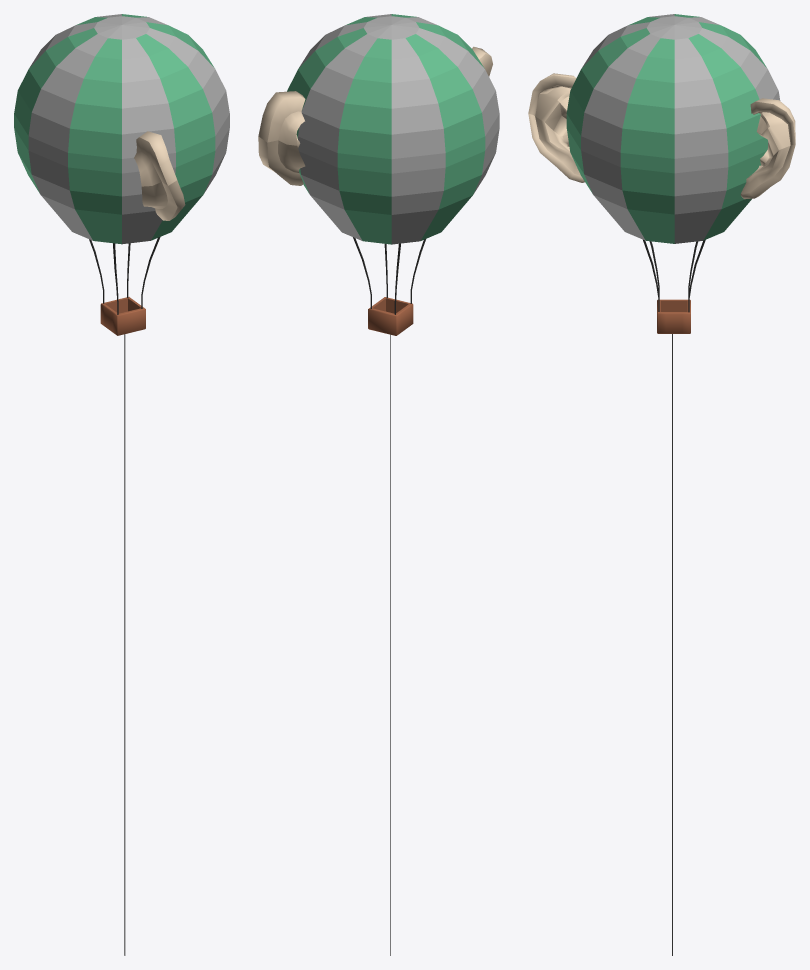
File: HotAirBalloon_Ear.fbx
3 renders of one model, left to right at view 1: azimuth 30°, elevation 25°; view 2: azimuth 150°, elevation 25°; view 3: azimuth 270°, elevation 25°, orthographic.
Parts seen in each view (by area): view 1: pCylinder3; view 2: pCylinder3; view 3: pCylinder3.
Part boxes in pixels (bbox=[...]): pCylinder3: bbox=[14, 14, 229, 955]; pCylinder3: bbox=[258, 14, 499, 955]; pCylinder3: bbox=[528, 14, 795, 955].
Bounding box in the file's own units: 0.4714 × 2.24 × 0.5846.
